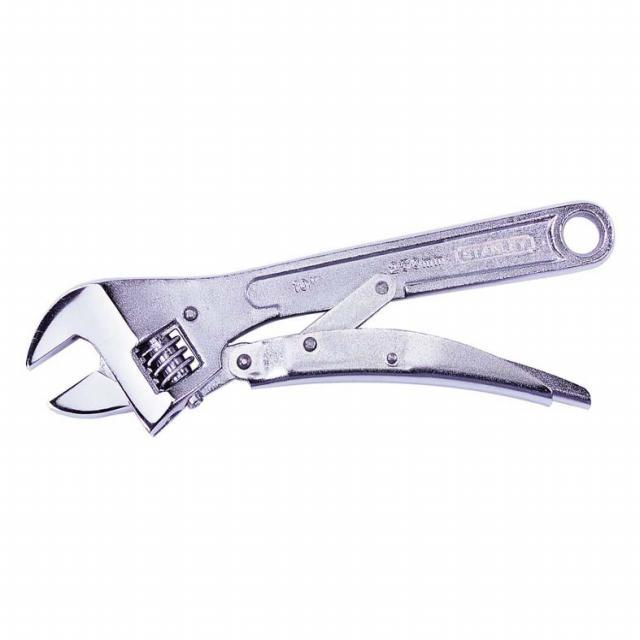wrench: (22, 194, 624, 443)
